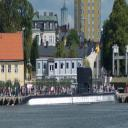submarine: (22, 64, 122, 106)
